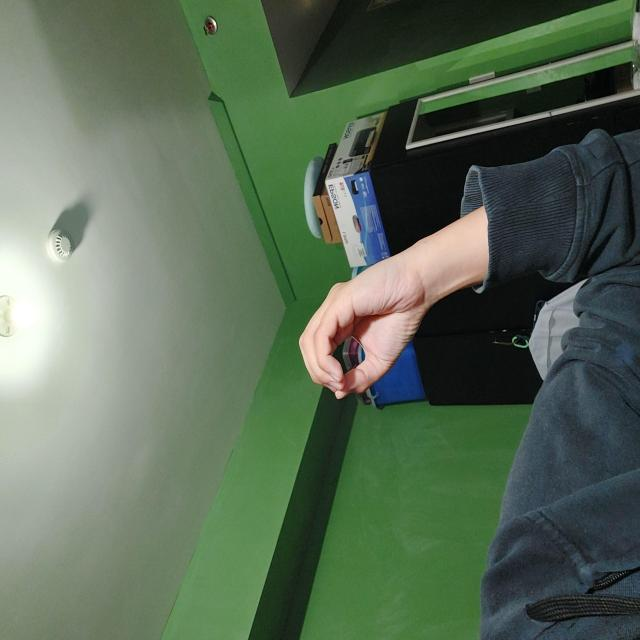O: (240, 298, 389, 427)
